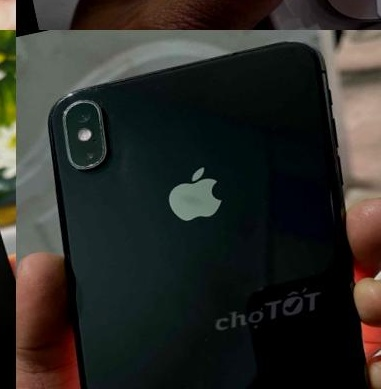scratch: (53, 80, 135, 133), (80, 149, 99, 176), (84, 125, 112, 143), (97, 140, 112, 156)
